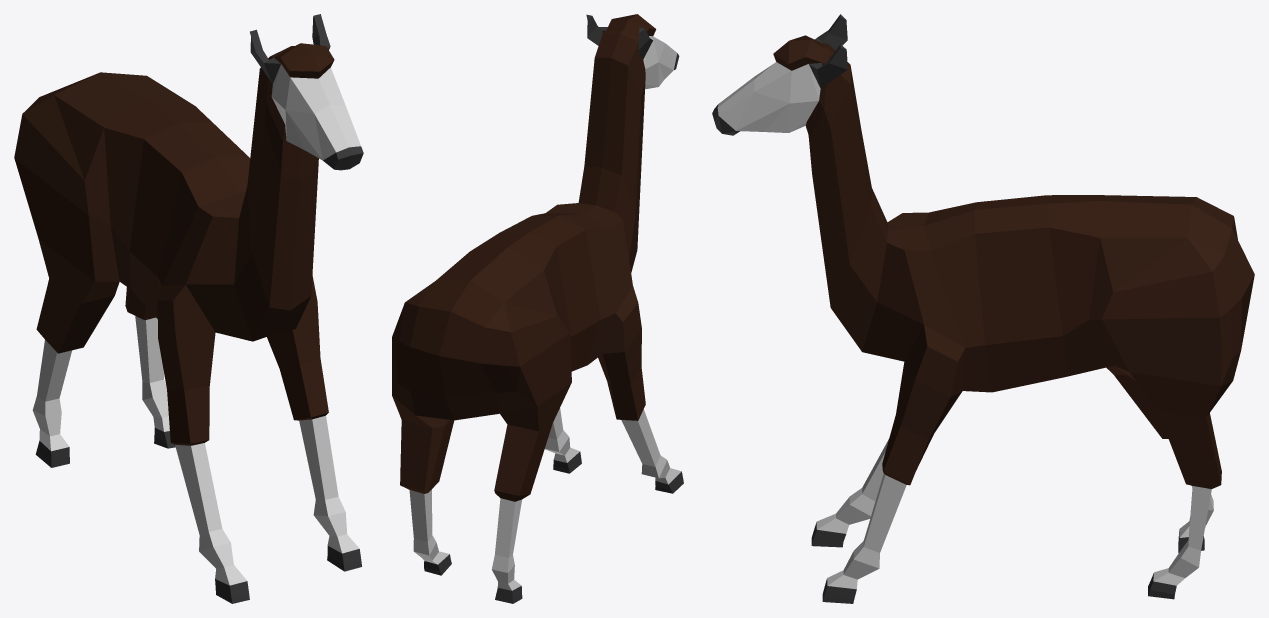
Rendered from Llama__1_000022.obj.
3 views of the same model, side by side, from view 1: azimuth 30°, elevation 25°; view 2: azimuth 150°, elevation 25°; view 3: azimuth 270°, elevation 25° (orthographic). The views are drawn at different scales.
Parts seen in each view (by area): view 1: Llama_Cylinder; view 2: Llama_Cylinder; view 3: Llama_Cylinder.
Boxes of the visible parts, x1,y1,x2,y2 form: Llama_Cylinder: (14,14,363,603); Llama_Cylinder: (392,14,683,603); Llama_Cylinder: (712,14,1254,603).
Size of the model in its own units: 1.57 by 5.45 by 4.93.
